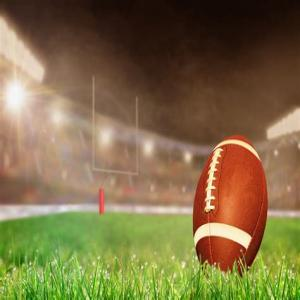Rugby: (192, 132, 269, 278)
